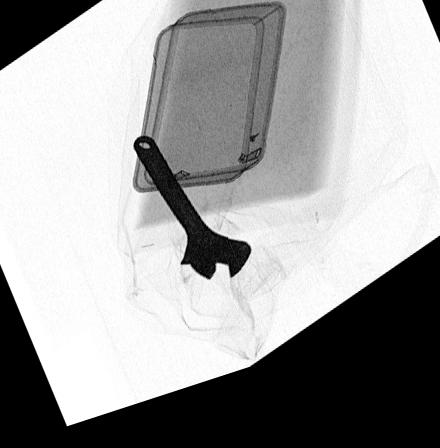Wrench: (130, 144, 253, 296)
